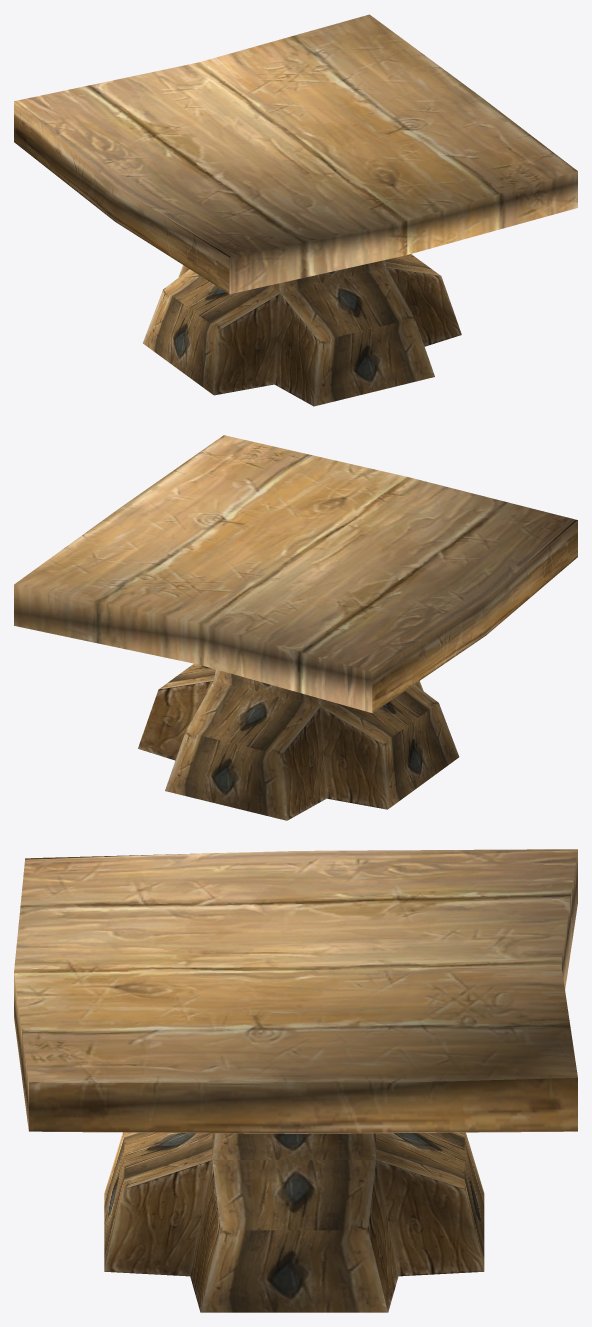
File: inntablesmall.obj
3 renders of one model, top to bottom at view 1: azimuth 30°, elevation 25°; view 2: azimuth 150°, elevation 25°; view 3: azimuth 270°, elevation 25°, orthographic. The views are drawn at different scales.
Visible parts, largest first — view 1: 1, 2, 0; view 2: 1, 2, 0; view 3: 1, 2, 0.
Part boxes in pixels (x1,y1,x2,y2): 1: [14, 14, 577, 294]; 2: [143, 254, 440, 406]; 0: [178, 265, 461, 406]; 1: [14, 435, 577, 712]; 2: [159, 663, 459, 820]; 0: [138, 681, 423, 820]; 1: [14, 849, 577, 1133]; 2: [104, 1132, 484, 1312]; 0: [104, 1160, 484, 1312].
Size of the model in its own units: 2.13 by 1.13 by 2.16.
3 materials, 3 textured.
